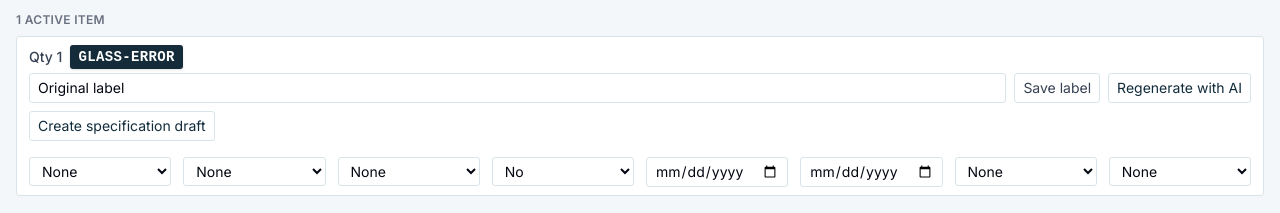
Scenario: WorkOrderItemsSummary › shows the label save error and offers a retry
This screenshot has width=1280, height=213.
Click the button "Save label": [1057, 88] box [1014,73,1100,103]
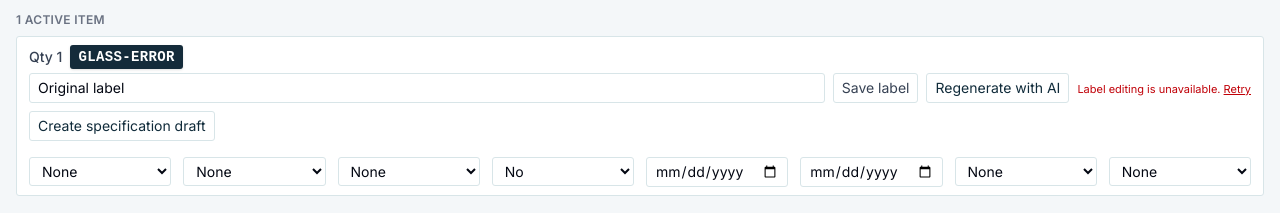
Expected: the message shows "Label editing is unavailable.", [1077,82,1220,96]
Expected: the button "Retry" is shown, [1224,82,1251,98]
